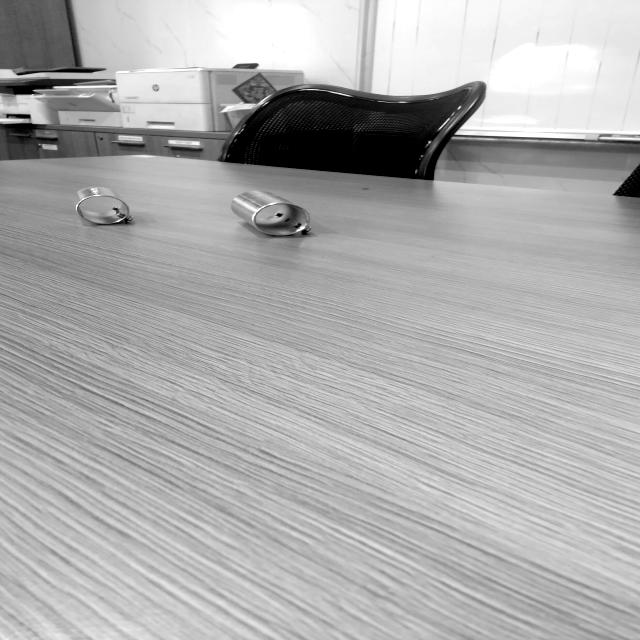Co_Lon: (225, 180, 317, 251)
Co_Nho: (76, 187, 133, 225)
